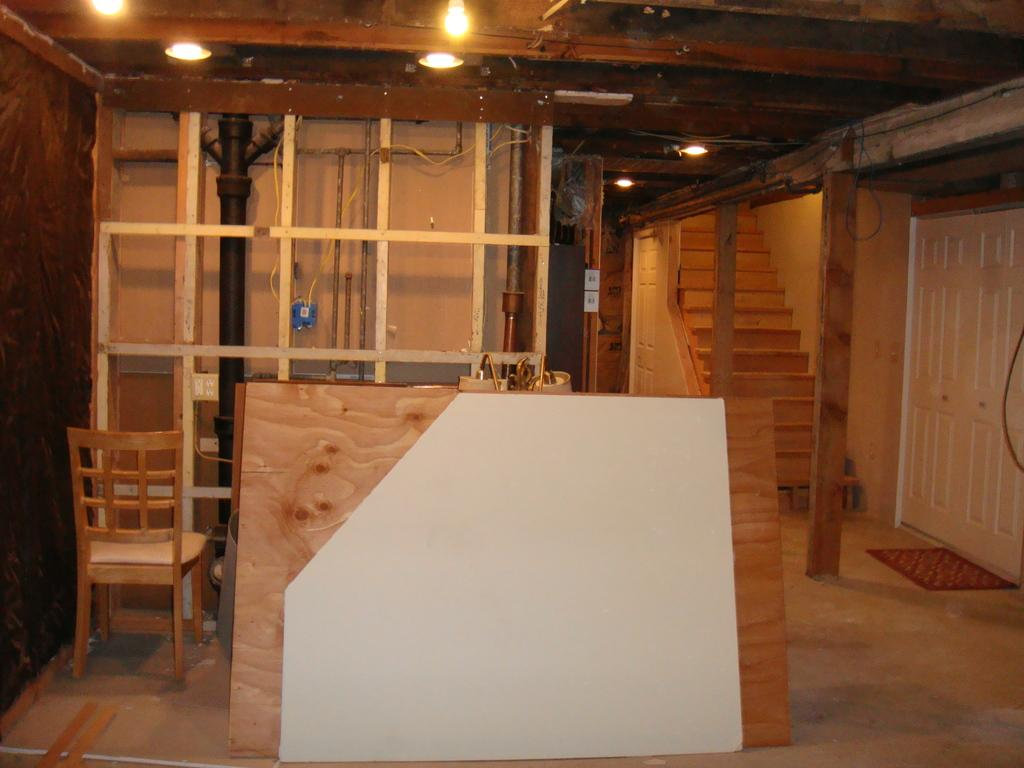Chair: (51, 381, 219, 682)
